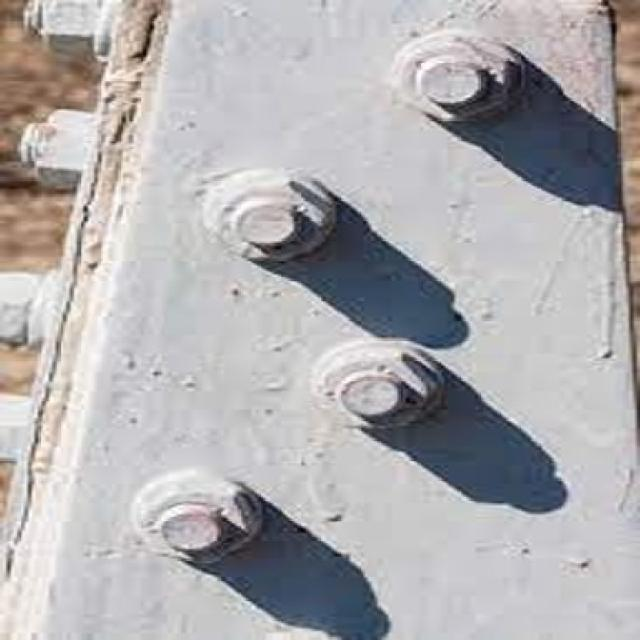Regular bolt: (199, 159, 341, 276), (385, 28, 531, 131), (127, 471, 268, 577), (309, 340, 447, 443)
